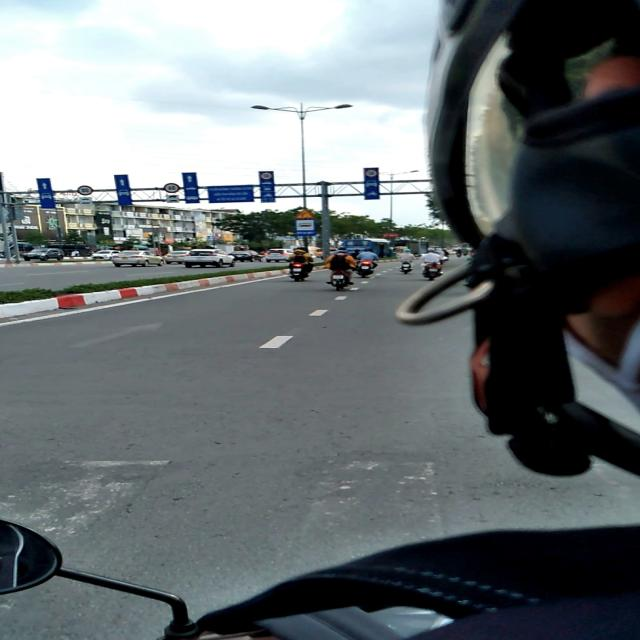Ben xe buyt: (295, 220, 315, 236)
Nguy hiem: (294, 208, 315, 218)
Toc do toi da: (77, 185, 94, 196), (163, 183, 180, 193), (259, 172, 273, 180), (364, 169, 378, 177)
